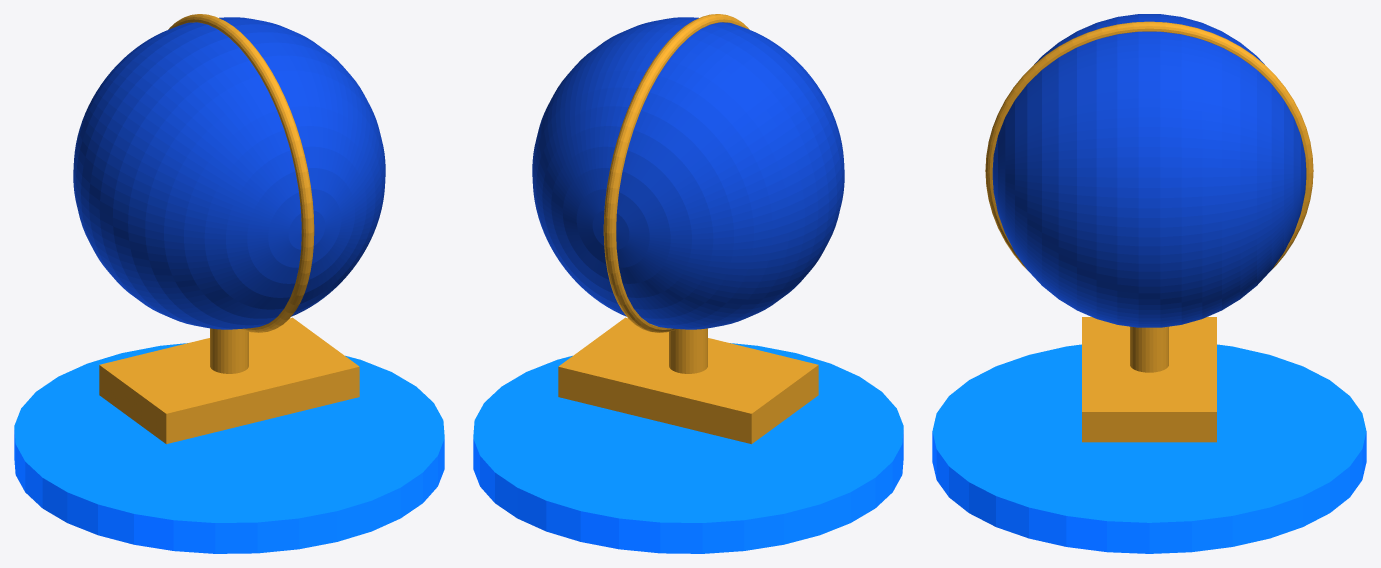
Rendered from news_globe.dae.
3 views of the same model, side by side, from view 1: azimuth 30°, elevation 25°; view 2: azimuth 150°, elevation 25°; view 3: azimuth 270°, elevation 25° (orthographic).
Parts seen in each view (by area): view 1: 09_04_Popular_News_Globe_part_01, 09_04_Popular_News_Globe_ROOT_base, 09_04_Popular_News_Globe_part_04, 09_04_Popular_News_Globe_part_02, 09_04_Popular_News_Globe_part_03; view 2: 09_04_Popular_News_Globe_part_01, 09_04_Popular_News_Globe_ROOT_base, 09_04_Popular_News_Globe_part_04, 09_04_Popular_News_Globe_part_02, 09_04_Popular_News_Globe_part_03; view 3: 09_04_Popular_News_Globe_part_01, 09_04_Popular_News_Globe_ROOT_base, 09_04_Popular_News_Globe_part_04, 09_04_Popular_News_Globe_part_02, 09_04_Popular_News_Globe_part_03.
Boxes of the visible parts, x1,y1,x2,y2 form: 09_04_Popular_News_Globe_part_01: (73, 17, 385, 329); 09_04_Popular_News_Globe_ROOT_base: (14, 343, 444, 553); 09_04_Popular_News_Globe_part_04: (99, 317, 359, 444); 09_04_Popular_News_Globe_part_02: (168, 14, 314, 332); 09_04_Popular_News_Globe_part_03: (210, 328, 248, 373); 09_04_Popular_News_Globe_part_01: (532, 17, 844, 329); 09_04_Popular_News_Globe_ROOT_base: (473, 343, 903, 553); 09_04_Popular_News_Globe_part_04: (558, 317, 818, 444); 09_04_Popular_News_Globe_part_02: (603, 14, 749, 332); 09_04_Popular_News_Globe_part_03: (669, 328, 707, 373); 09_04_Popular_News_Globe_part_01: (992, 14, 1306, 327); 09_04_Popular_News_Globe_ROOT_base: (932, 344, 1366, 553); 09_04_Popular_News_Globe_part_04: (1082, 317, 1216, 442); 09_04_Popular_News_Globe_part_02: (985, 21, 1313, 269); 09_04_Popular_News_Globe_part_03: (1130, 326, 1168, 372).
Bounding box in the file's own units: 0.76 × 0.85 × 0.76.
